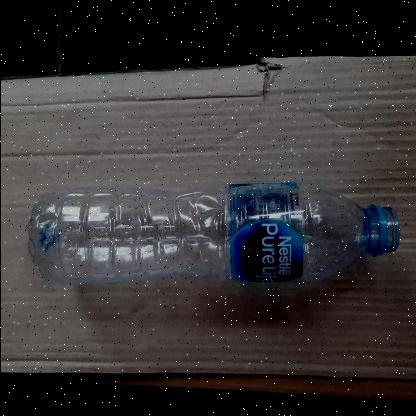Plastic Bottle: (6, 148, 404, 312)
